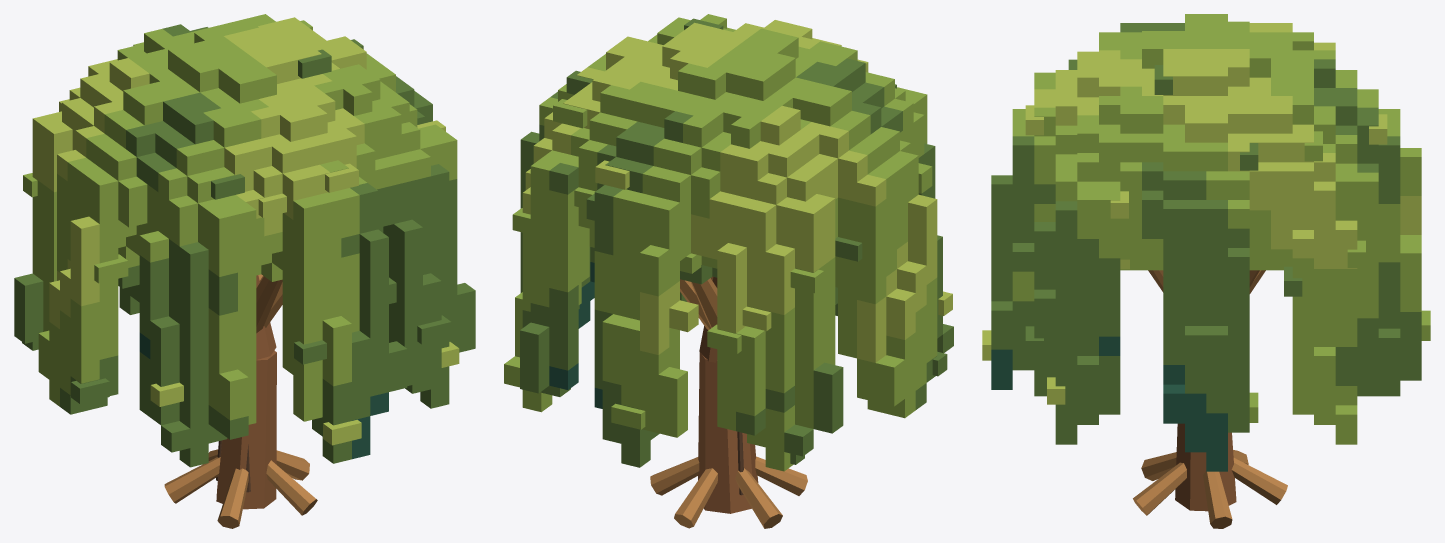
The model's file is tree_willow.glb.
The picture shows the model from 3 angles, left to right: view 1: azimuth 30°, elevation 25°; view 2: azimuth 150°, elevation 25°; view 3: azimuth 270°, elevation 25°; orthographic projection.
Parts seen in each view (by area): view 1: canopy__tree_leaf_light.031, canopy__tree_leaf_mid.031, canopy__tree_leaf_sun.031, body__wood.037, body__wood2.036, canopy__tree_leaf_shadow.031; view 2: canopy__tree_leaf_light.031, canopy__tree_leaf_sun.031, canopy__tree_leaf_mid.031, body__wood2.036, body__wood.037, canopy__tree_leaf_shadow.031; view 3: canopy__tree_leaf_mid.031, canopy__tree_leaf_light.031, canopy__tree_leaf_sun.031, canopy__tree_leaf_shadow.031, body__wood2.036, body__wood.037.
Boxes of the visible parts, <box> form: canopy__tree_leaf_light.031: <box>23,14,457,424</box>; canopy__tree_leaf_mid.031: <box>14,24,475,467</box>; canopy__tree_leaf_sun.031: <box>32,17,459,445</box>; body__wood.037: <box>216,275,276,509</box>; body__wood2.036: <box>164,274,317,528</box>; canopy__tree_leaf_shadow.031: <box>139,332,388,459</box>; canopy__tree_leaf_light.031: <box>504,14,937,471</box>; canopy__tree_leaf_sun.031: <box>522,20,952,362</box>; canopy__tree_leaf_mid.031: <box>520,18,953,467</box>; body__wood2.036: <box>650,276,807,528</box>; body__wood.037: <box>698,277,758,513</box>; canopy__tree_leaf_shadow.031: <box>549,262,602,408</box>; canopy__tree_leaf_mid.031: <box>991,23,1421,444</box>; canopy__tree_leaf_light.031: <box>1012,14,1430,444</box>; canopy__tree_leaf_sun.031: <box>982,23,1421,404</box>; canopy__tree_leaf_shadow.031: <box>991,336,1227,471</box>; body__wood2.036: <box>1133,270,1287,528</box>; body__wood.037: <box>1175,423,1236,511</box>.
Bounding box in the file's own units: 3.45 × 3.93 × 3.54.
